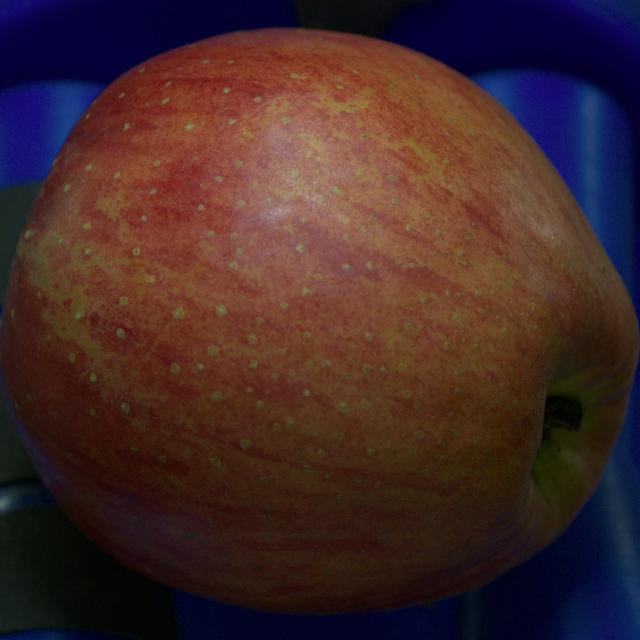apple: (0, 29, 639, 614)
